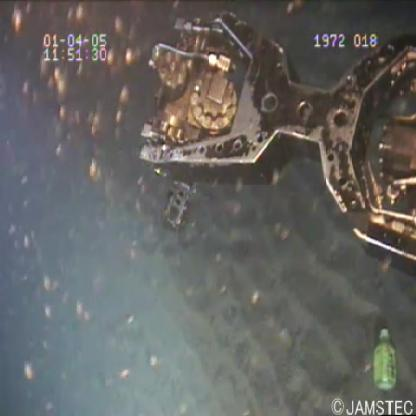Rov: (137, 7, 416, 273)
Rác: (367, 324, 404, 396)
